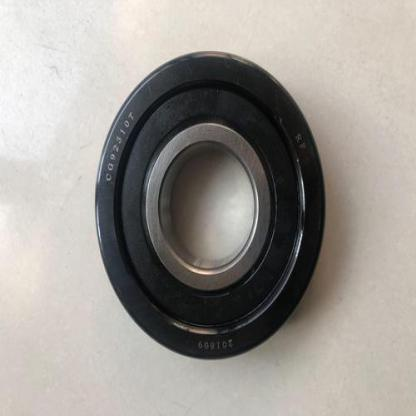FOD: (91, 45, 331, 363)
